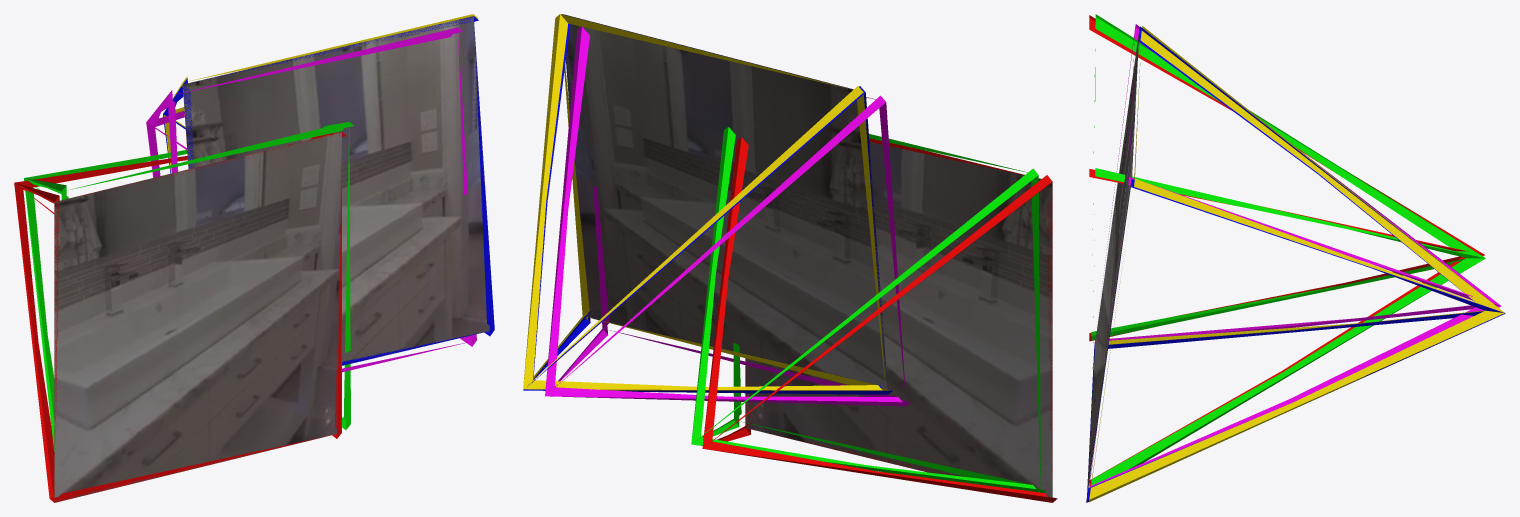
3 renders of one model, left to right at view 1: azimuth 30°, elevation 25°; view 2: azimuth 150°, elevation 25°; view 3: azimuth 270°, elevation 25°, orthographic. The views are drawn at different scales.
Visible parts, largest first — view 1: geometry_1, geometry_3, geometry_2, geometry_5, geometry_6, geometry_4, geometry_7; view 2: geometry_3, geometry_1, geometry_7, geometry_6, geometry_5, geometry_2, geometry_4; view 3: geometry_7, geometry_5, geometry_6, geometry_3, geometry_4, geometry_2.
Boxes of the visible parts, x1,y1,x2,y2 form: geometry_1: (54, 132, 341, 502); geometry_3: (183, 16, 494, 365); geometry_2: (14, 132, 346, 502); geometry_5: (24, 122, 353, 451); geometry_6: (146, 27, 476, 372); geometry_4: (163, 16, 494, 365); geometry_7: (164, 14, 478, 173); geometry_3: (563, 14, 887, 389); geometry_1: (745, 142, 1052, 497); geometry_7: (523, 14, 890, 390); geometry_6: (545, 26, 910, 406); geometry_5: (691, 127, 1045, 492); geometry_2: (702, 137, 1057, 502); geometry_4: (523, 14, 892, 394); geometry_7: (1088, 26, 1504, 502); geometry_5: (1091, 14, 1485, 485); geometry_6: (1089, 24, 1501, 487); geometry_3: (1087, 31, 1139, 495); geometry_4: (1086, 26, 1505, 502); geometry_2: (1089, 15, 1484, 485).
Bounding box in the file's own units: 0.7555 × 0.6027 × 0.5677.
Materials: 2 (2 with a texture image).
